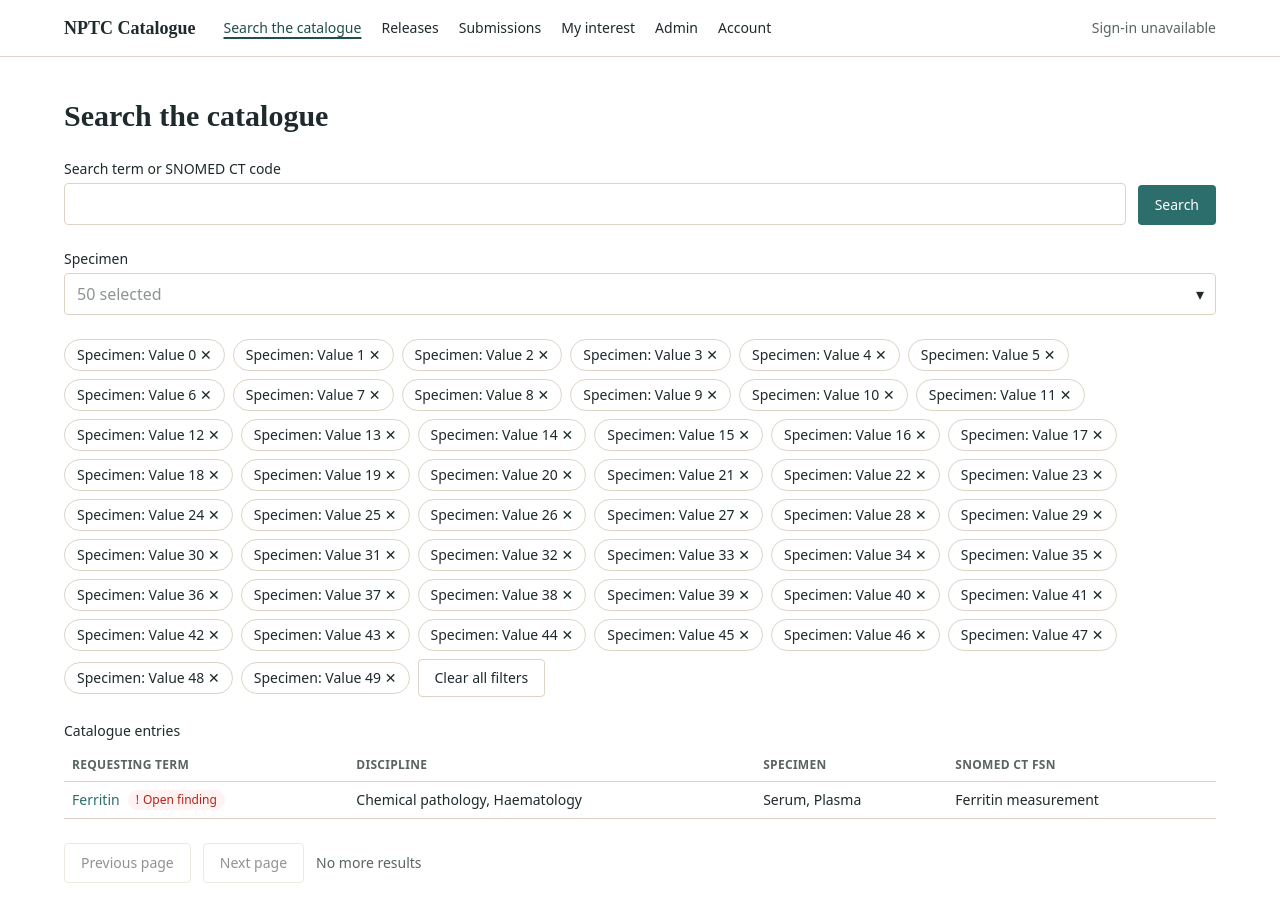
Test: CatalogueSearchPage › stops at the limit of values the API accepts in one filter, and says why
Click the dropdown labelled "Specimen": x=640, y=294 [64,272,1216,314]
(page scrolled)
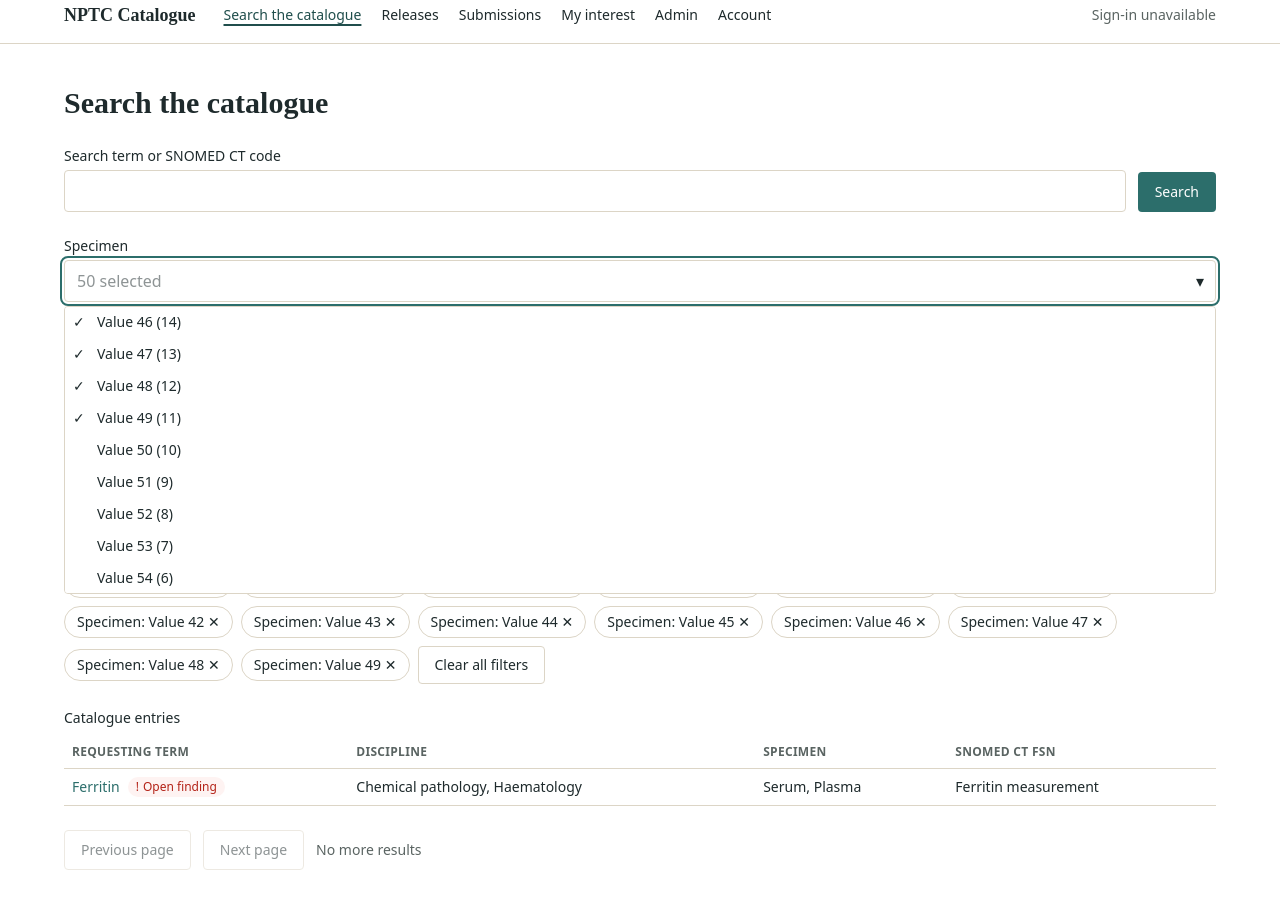
Click the option "Value 50 (10)": x=139, y=450 [97,440,181,459]
(page scrolled)
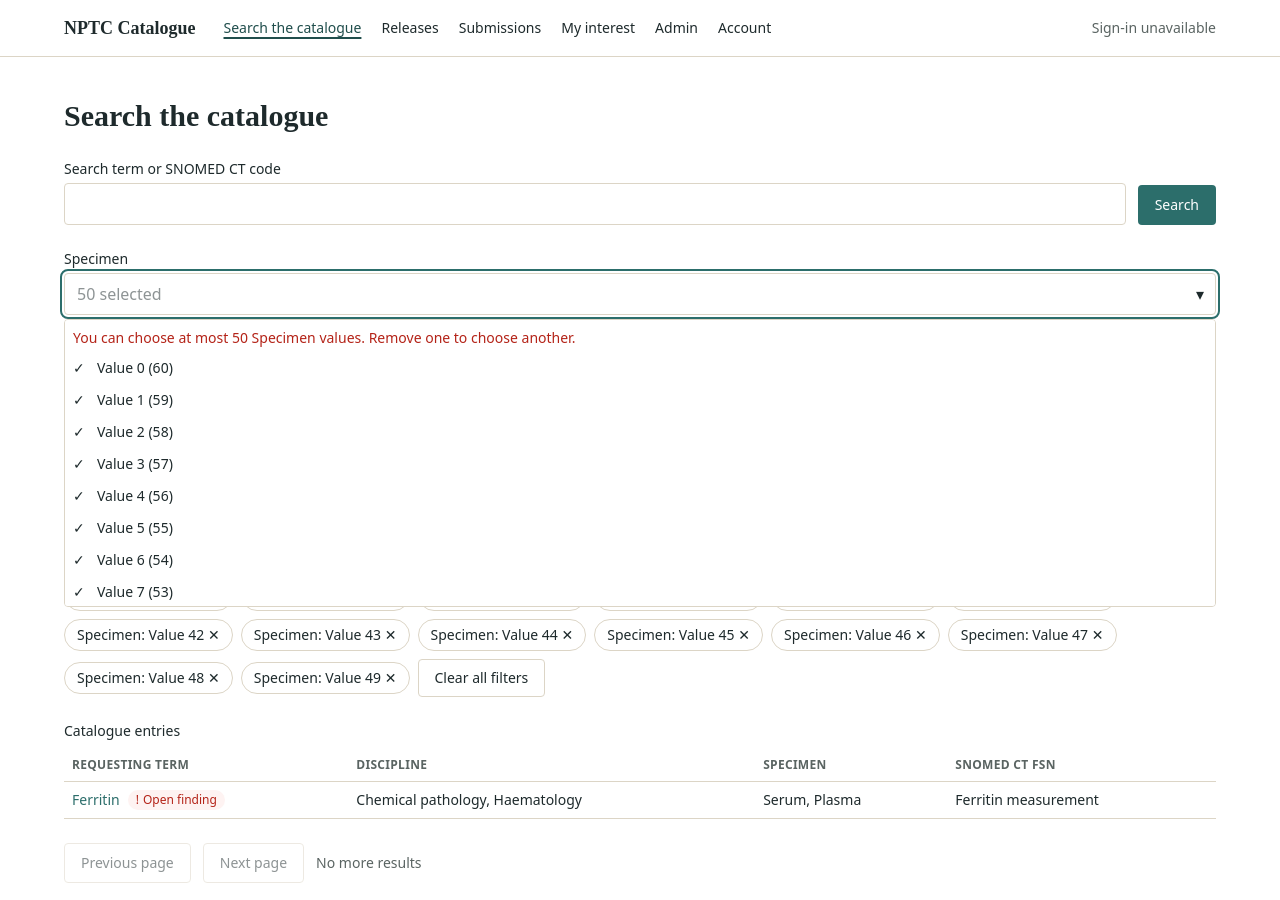
Expected: the text "You can choose at most 50 Specimen values. Remove one to choose another." is shown, [73,328,575,347]
